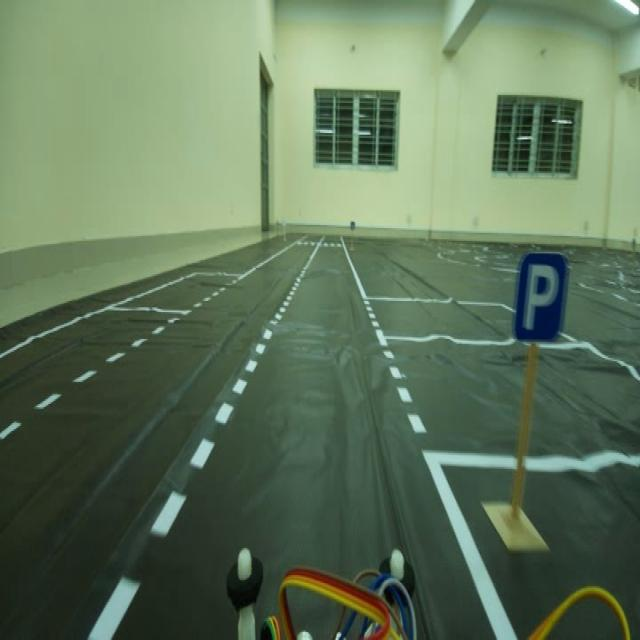parking: (510, 248, 571, 357)
